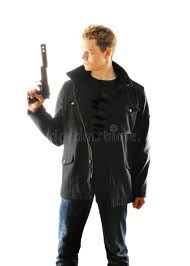gun: (27, 42, 53, 107)
